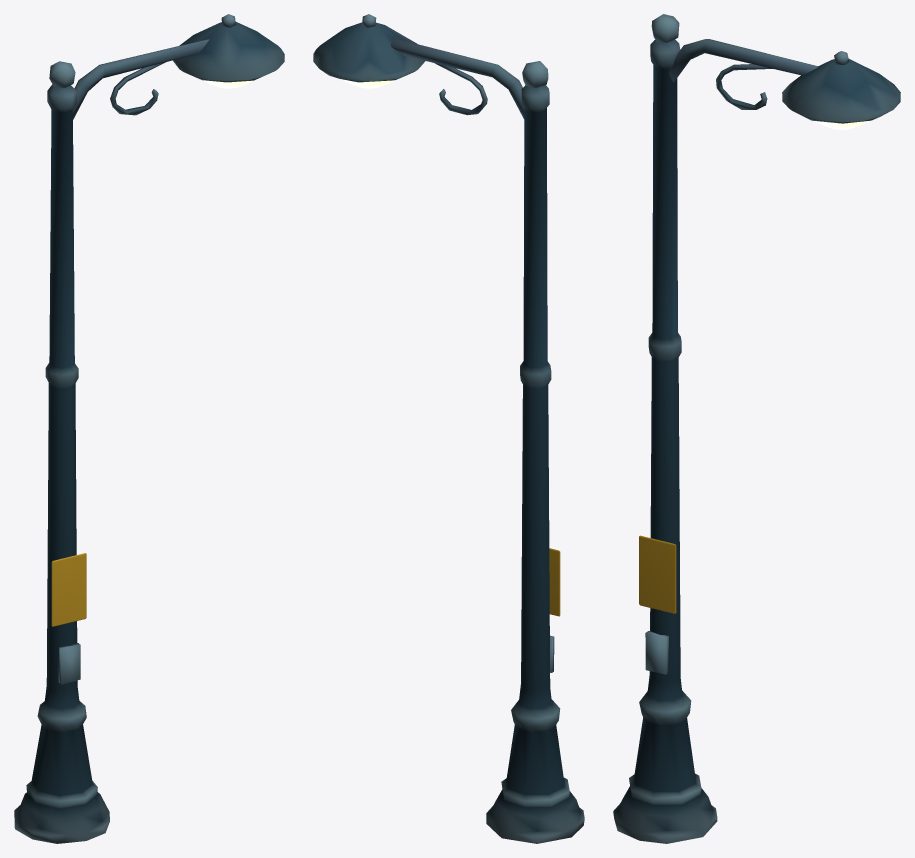
File: lampadaire.glb
3 renders of one model, left to right at view 1: azimuth 30°, elevation 25°; view 2: azimuth 150°, elevation 25°; view 3: azimuth 330°, elevation 25°, orthographic. The views are drawn at different scales.
Parts seen in each view (by area): view 1: lampadaire; view 2: lampadaire; view 3: lampadaire.
Boxes of the visible parts, left/top/right/bottom form: lampadaire: left=14, top=14, right=284, bottom=843; lampadaire: left=313, top=14, right=584, bottom=843; lampadaire: left=613, top=14, right=900, bottom=843.
Size of the model in its own units: 1.47 by 4.19 by 0.5634.
